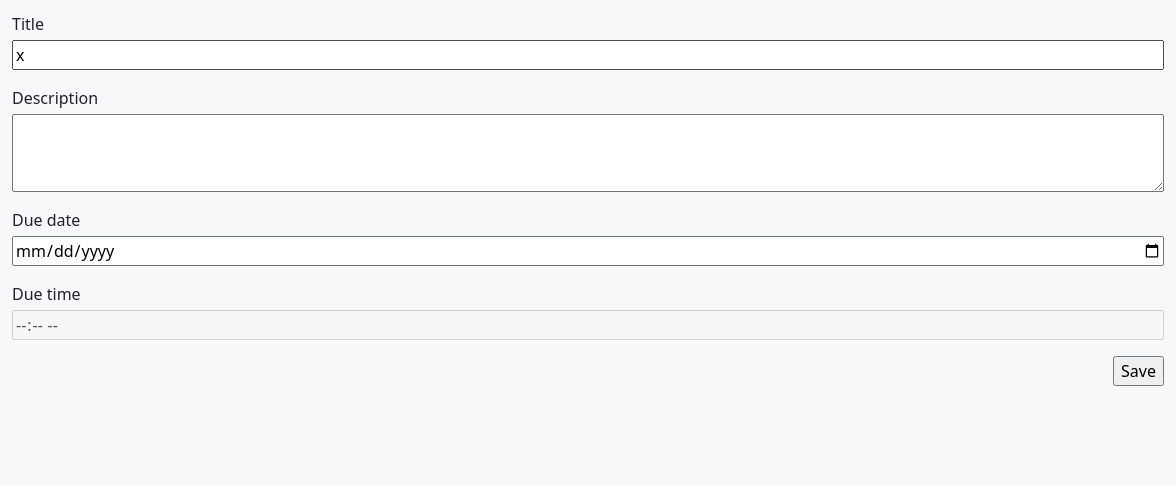
TodoForm › maps server field errors onto fields (first message wins) and body errors to a banner
The width and height of the screenshot is (1176, 486).
What coordinates should you click on to do the following:
click the button "Save"
I would click on:
 (1139, 371)
Its box is x1=1113 y1=356 x2=1164 y2=386.
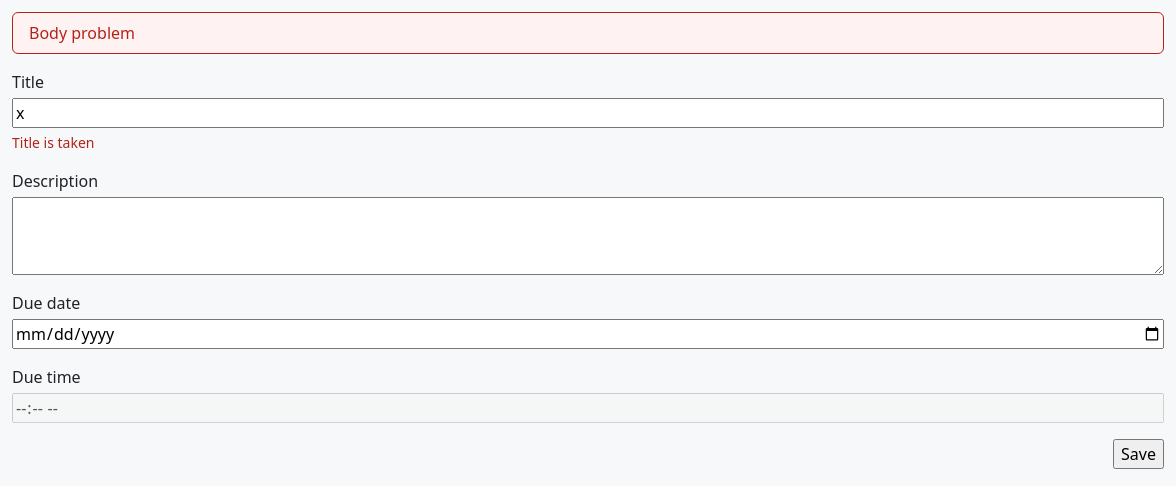
Now the message reads "Body problem", box x1=29 y1=22 x2=135 y2=44
